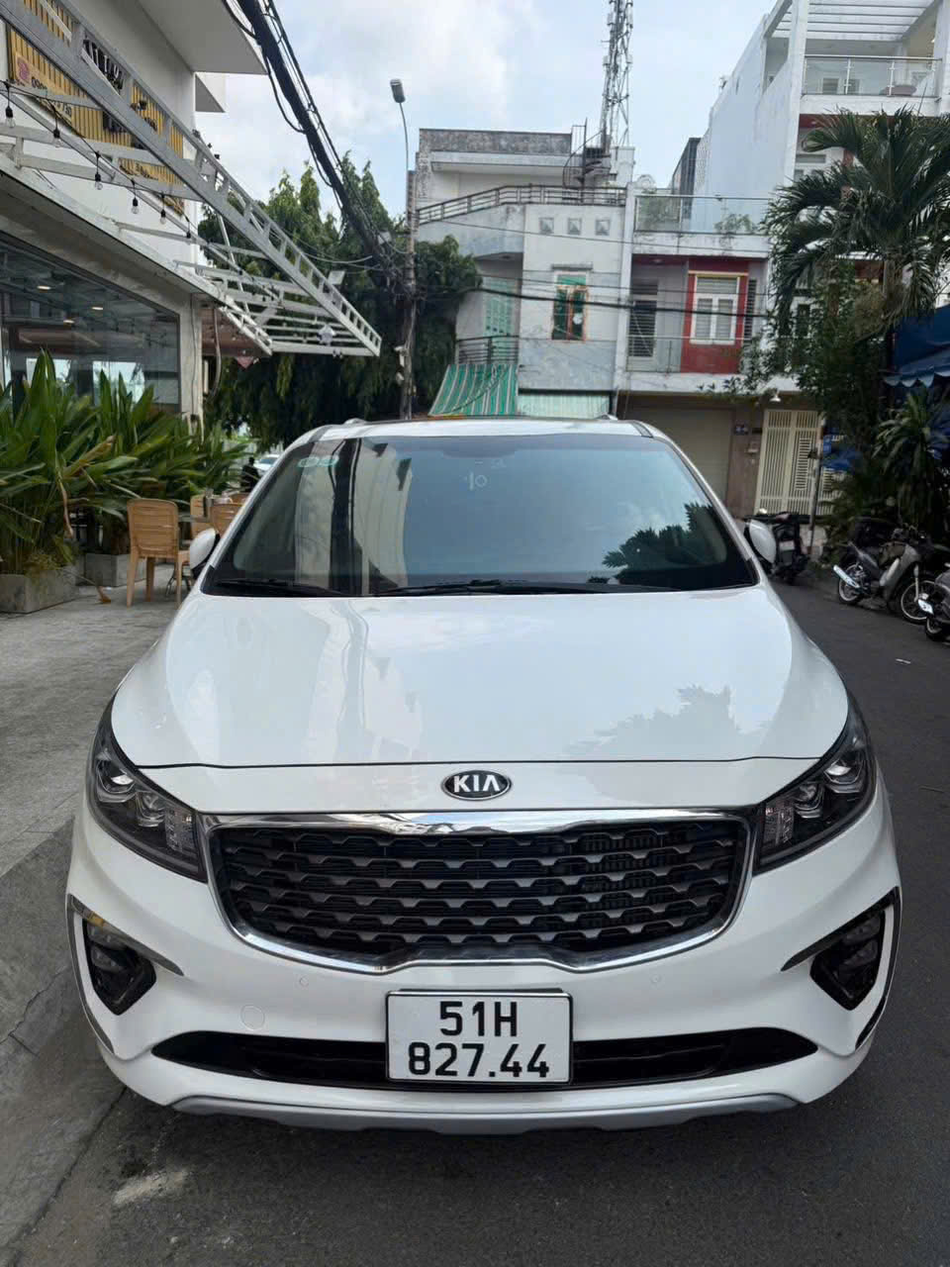Bien-so: (382, 988, 574, 1085)
